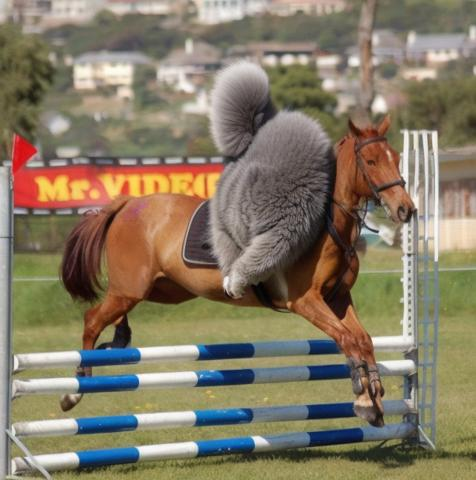cat: (204, 50, 339, 301)
horse: (57, 109, 418, 433)
